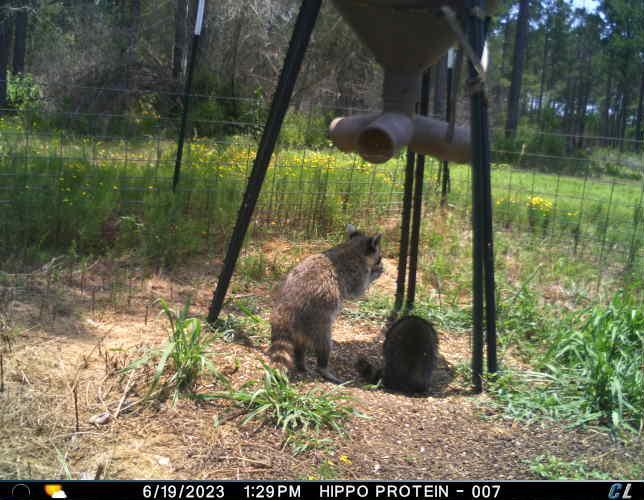Raccoon: (254, 223, 389, 379), (359, 311, 443, 399)
